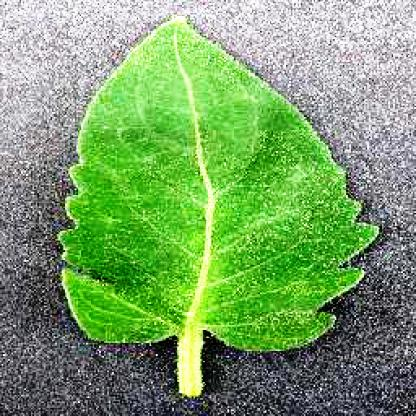Healthy: (55, 13, 379, 398)
